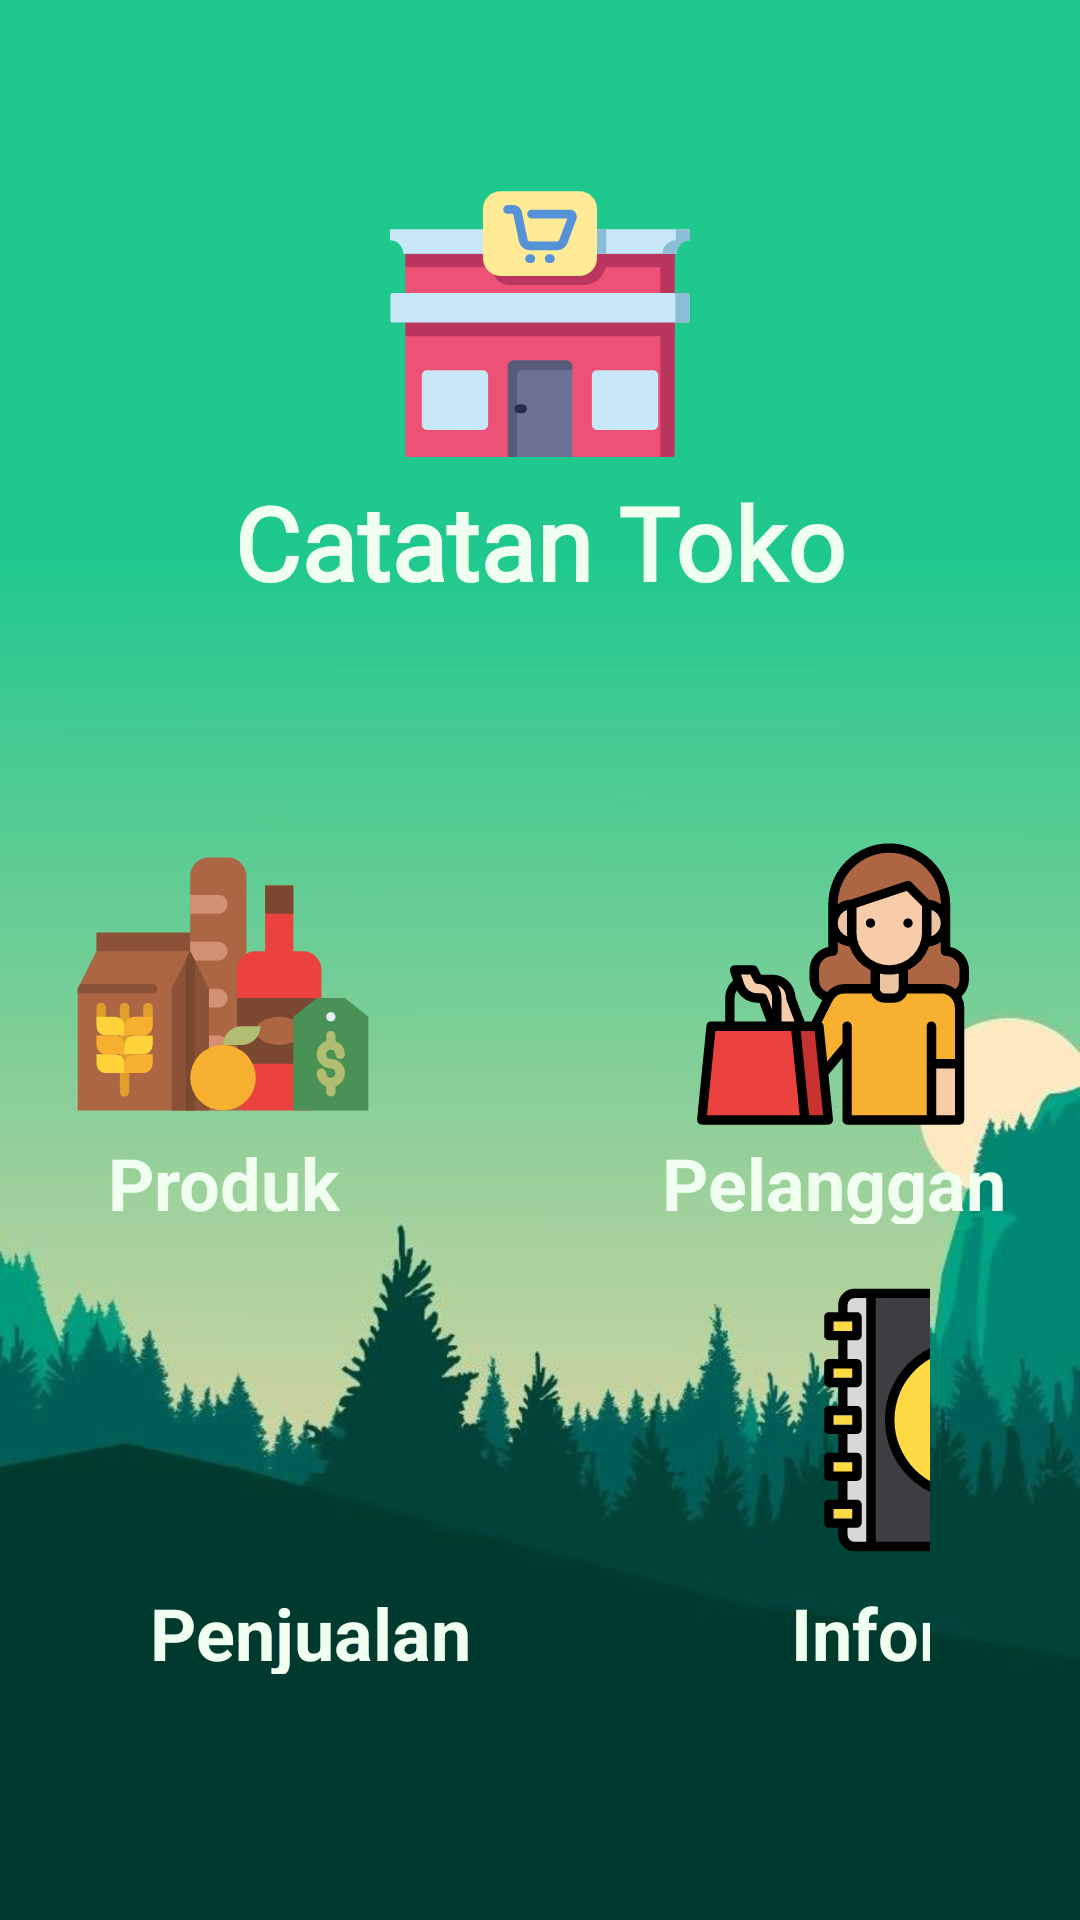

Named icons in this screenshot (1080 × 1920) and their centers, (x,y):
food: (223,984)
